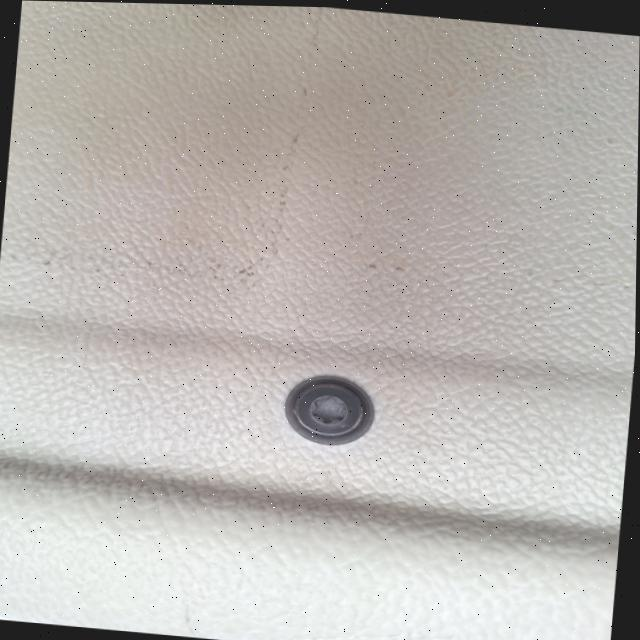Torx: (280, 372, 376, 450)
